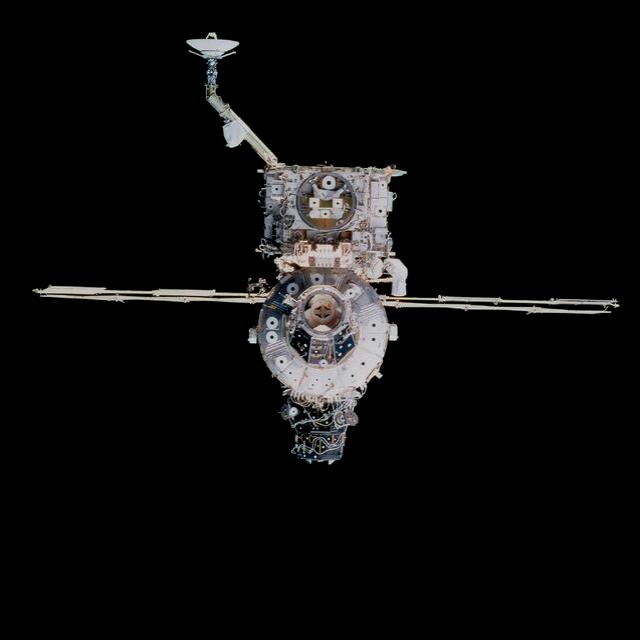medium_debris: (38, 34, 617, 463)
